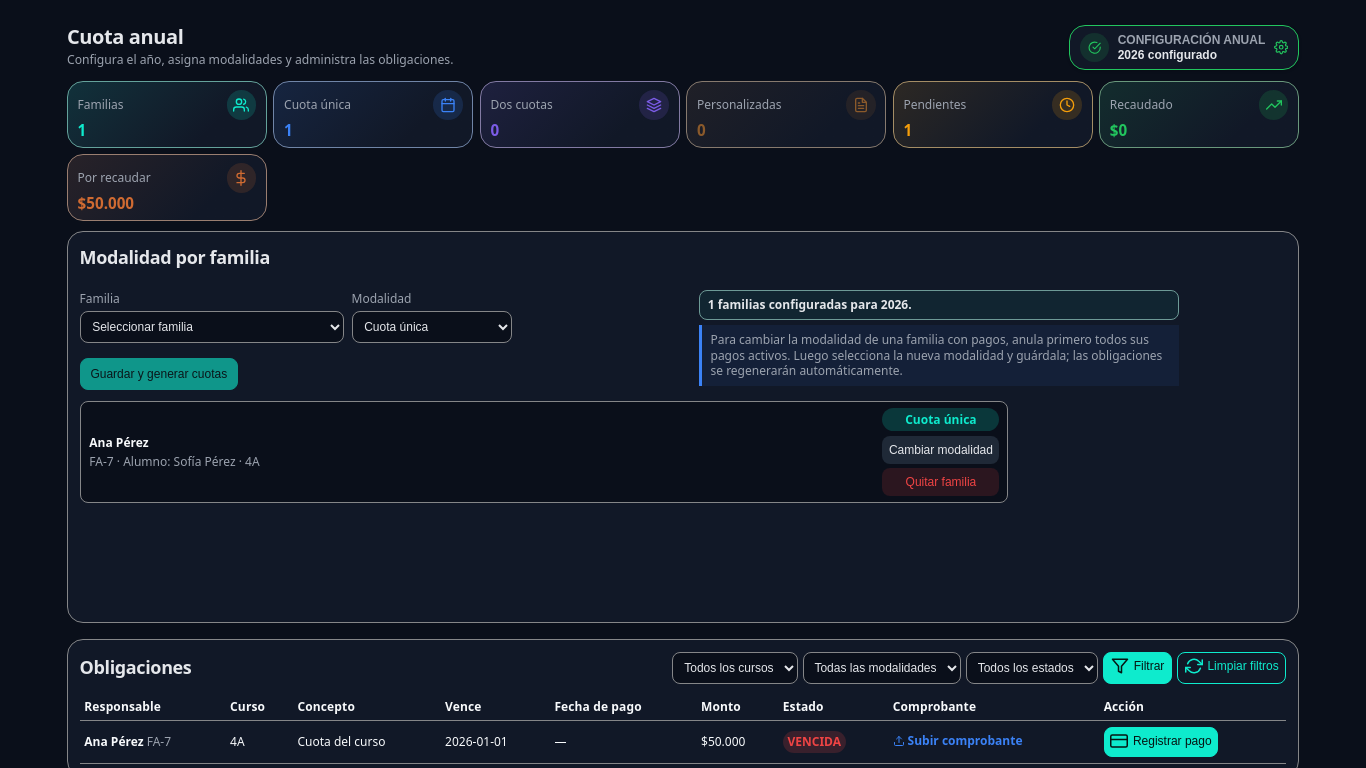
it: annual fee administration from screen to HTTP › prevents confirmation without a payment date and lets the user cancel without requests
Click the button "Registrar pago".
click(1161, 742)  # box left=1104, top=727, right=1218, bottom=757
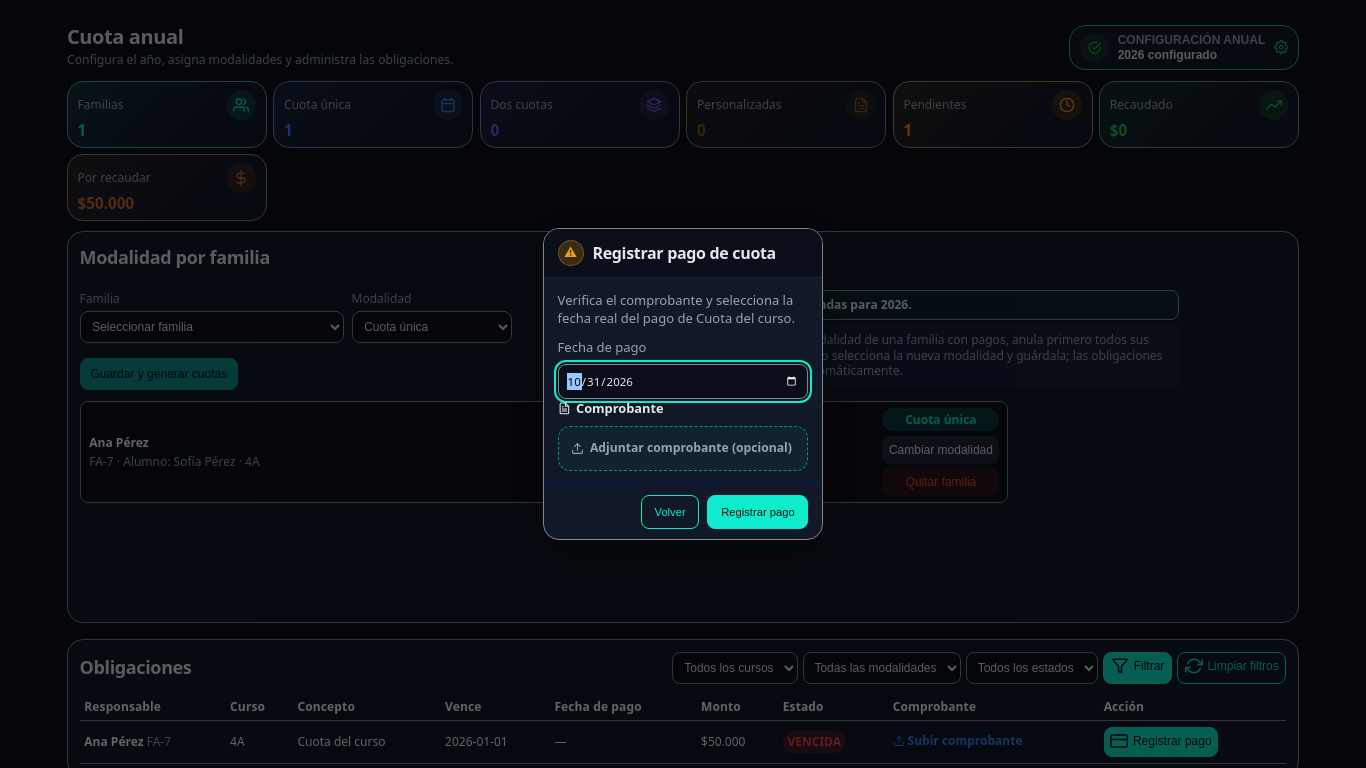
Clear the date field labelled "Fecha de pago" at (683, 381), box left=558, top=364, right=808, bottom=399
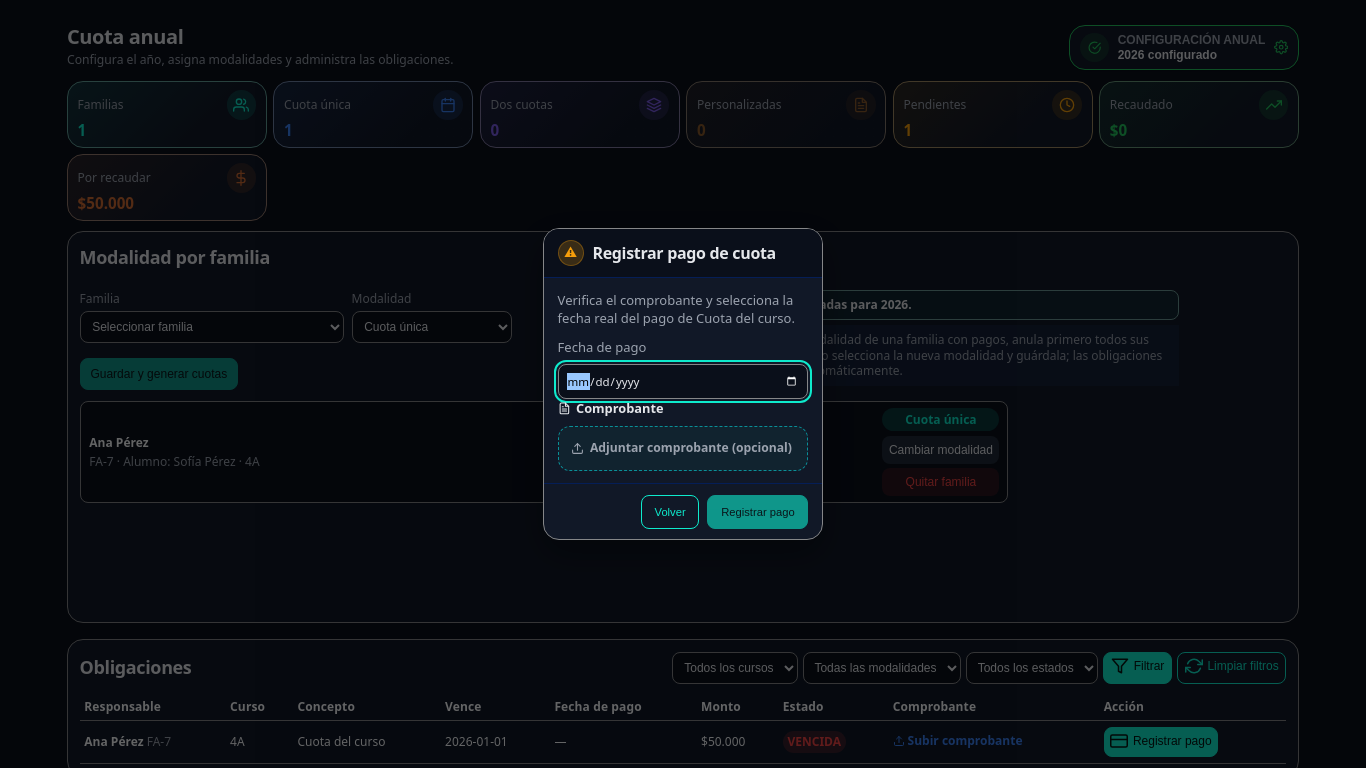
Check: the button "Registrar pago" is disabled, box left=707, top=495, right=808, bottom=529
Click the button "Volver".
click(670, 512)  # box left=641, top=495, right=699, bottom=529
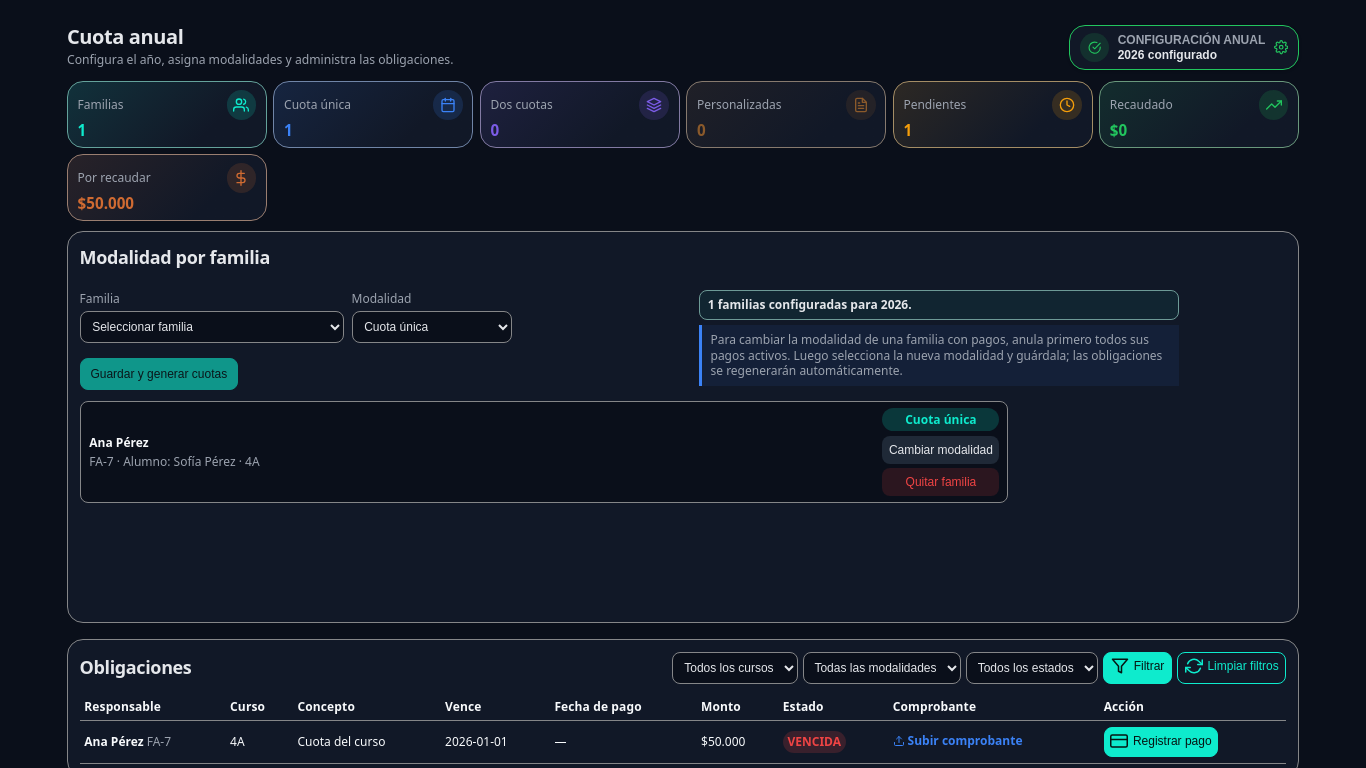
Check: the dialog is gone
